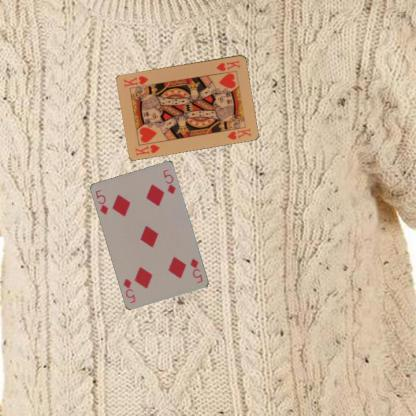5d: (93, 187, 110, 216), (188, 256, 204, 285)
Kh: (133, 142, 161, 157), (214, 57, 241, 72)
